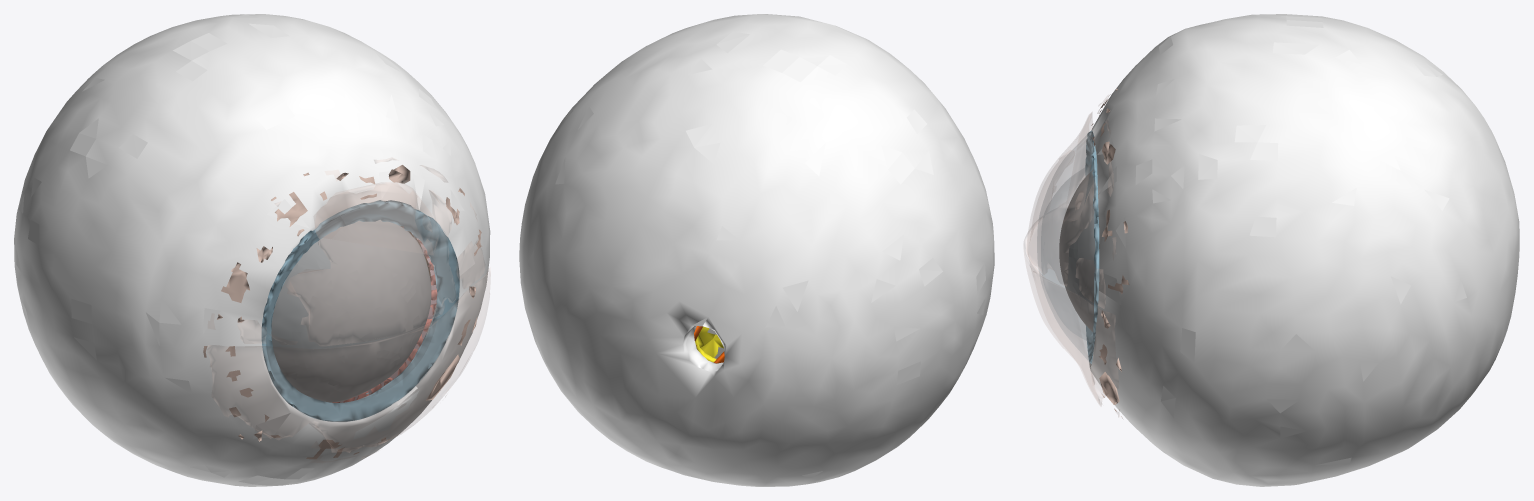
Rendered from 3d-vh-m-eye-l-40.glb.
3 views of the same model, side by side, from view 1: azimuth 30°, elevation 25°; view 2: azimuth 150°, elevation 25°; view 3: azimuth 270°, elevation 25° (orthographic).
Parts seen in each view (by area): view 1: VH_M_sclera_L, VH_M_cornea_L, VH_M_palpebral_conjunctiva_of_lower_eyelid_L, VH_M_aqueous_humor_L, VH_M_palpebral_conjunctiva_of_upper_eyelid_L, VH_M_corneo_scleral_junction_L, VH_M_bulbar_conjunctiva_L, VH_M_ciliary_muscle_L; view 2: VH_M_sclera_L; view 3: VH_M_sclera_L, VH_M_cornea_L, VH_M_palpebral_conjunctiva_of_upper_eyelid_L, VH_M_palpebral_conjunctiva_of_lower_eyelid_L, VH_M_aqueous_humor_L, VH_M_corneo_scleral_junction_L, VH_M_bulbar_conjunctiva_L.
Boxes of the visible parts, box(x1,y1,x2,y2) form: VH_M_sclera_L: box(14, 14, 490, 486); VH_M_cornea_L: box(262, 202, 459, 421); VH_M_palpebral_conjunctiva_of_lower_eyelid_L: box(207, 268, 490, 462); VH_M_aqueous_humor_L: box(271, 220, 431, 402); VH_M_palpebral_conjunctiva_of_upper_eyelid_L: box(208, 158, 484, 345); VH_M_corneo_scleral_junction_L: box(261, 200, 459, 421); VH_M_bulbar_conjunctiva_L: box(203, 165, 481, 459); VH_M_ciliary_muscle_L: box(332, 227, 437, 402); VH_M_sclera_L: box(519, 14, 994, 486); VH_M_sclera_L: box(1089, 14, 1519, 486); VH_M_cornea_L: box(1037, 133, 1097, 363); VH_M_palpebral_conjunctiva_of_upper_eyelid_L: box(1027, 95, 1115, 308); VH_M_palpebral_conjunctiva_of_lower_eyelid_L: box(1024, 227, 1119, 416); VH_M_aqueous_humor_L: box(1059, 169, 1095, 331); VH_M_corneo_scleral_junction_L: box(1085, 130, 1099, 363); VH_M_bulbar_conjunctiva_L: box(1091, 88, 1129, 418).
Bounding box in the file's own units: 0.0245 × 0.0244 × 0.0257.
